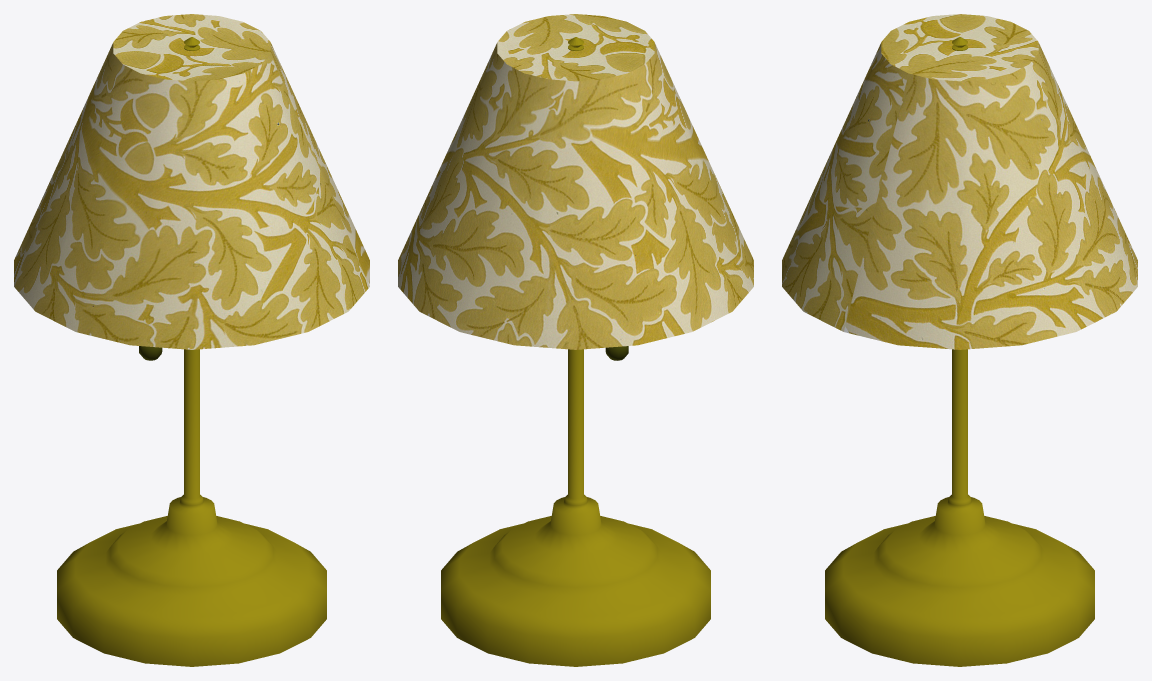
File: Lamp.FBX
The picture shows the model from 3 angles, left to right: view 1: azimuth 30°, elevation 25°; view 2: azimuth 150°, elevation 25°; view 3: azimuth 270°, elevation 25°; orthographic projection.
Visible parts, largest first — view 1: lamp lamp Cylinder00203, lamp lamp Sphere00101; view 2: lamp lamp Cylinder00203, lamp lamp Sphere00101; view 3: lamp lamp Cylinder00203, lamp lamp Sphere00101.
Part boxes in pixels (box(x1,y1,x2,y2)): lamp lamp Cylinder00203: box(14, 14, 369, 349); lamp lamp Sphere00101: box(57, 37, 326, 666); lamp lamp Cylinder00203: box(398, 14, 753, 349); lamp lamp Sphere00101: box(441, 37, 710, 666); lamp lamp Cylinder00203: box(782, 14, 1137, 349); lamp lamp Sphere00101: box(825, 37, 1094, 666).
Bounding box in the file's own units: 23.51 × 41 × 23.15.
Materials: 3 (1 with a texture image).
